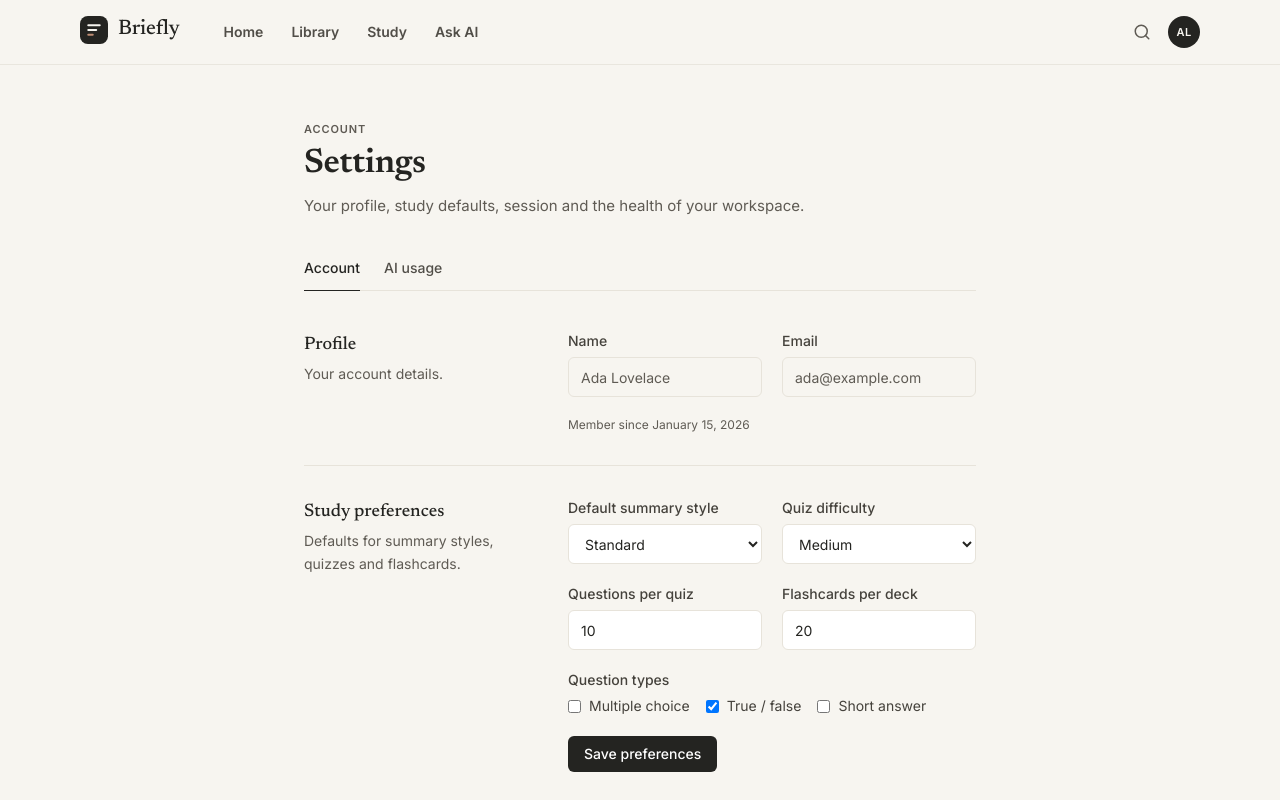
AI usage page › a usage failure shows an error, and Settings links to the usage page
Expected: the heading "Study preferences" is shown, [304,504,444,522]
Step 1. Click the link "AI usage" → coordinates (413, 268), box [384,260,442,276]
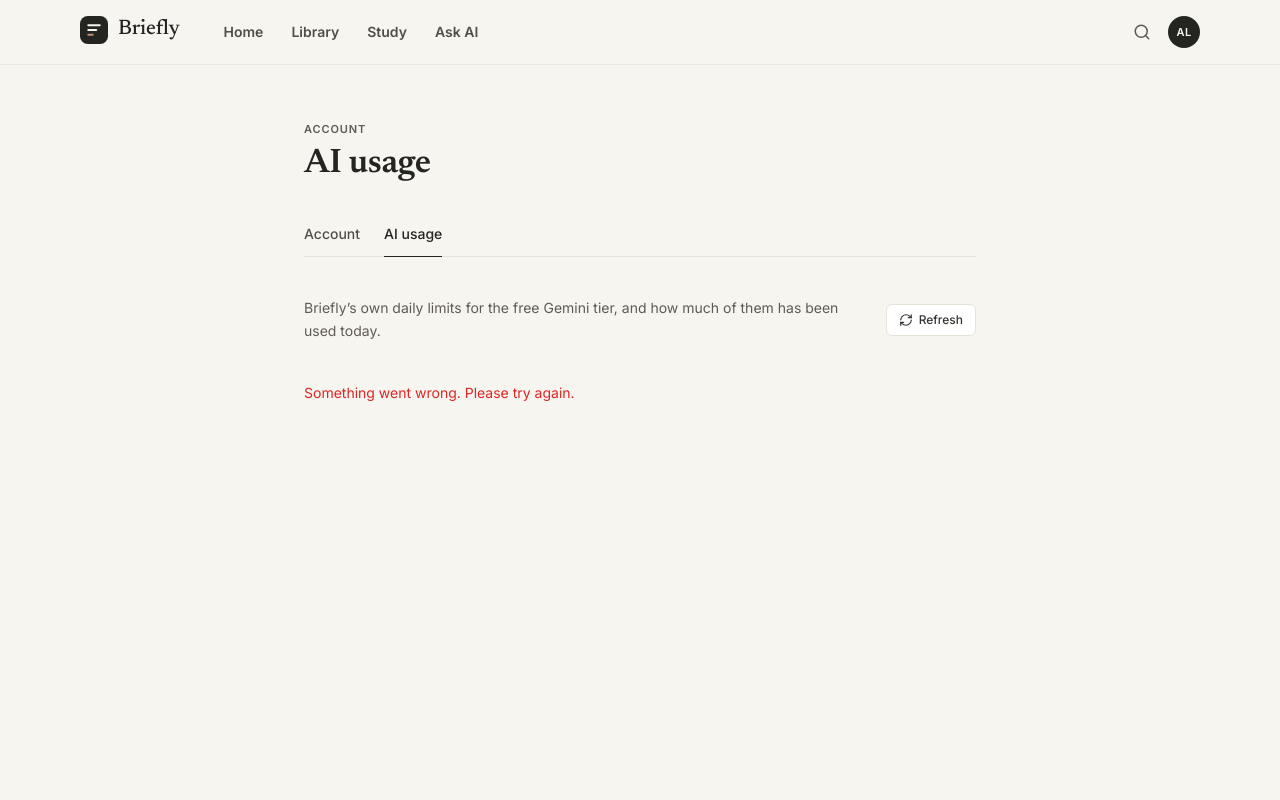
Result: the heading "AI usage" is shown at [304,145,431,184]
Result: the text "Something went wrong. Please try again." is shown at [304,384,575,401]
